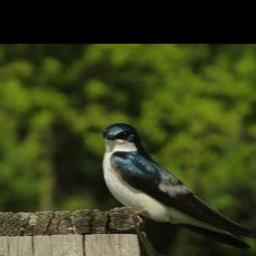Swallow: (100, 121, 256, 251)
